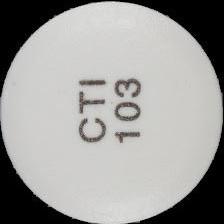61442-103: (0, 0, 224, 224)
